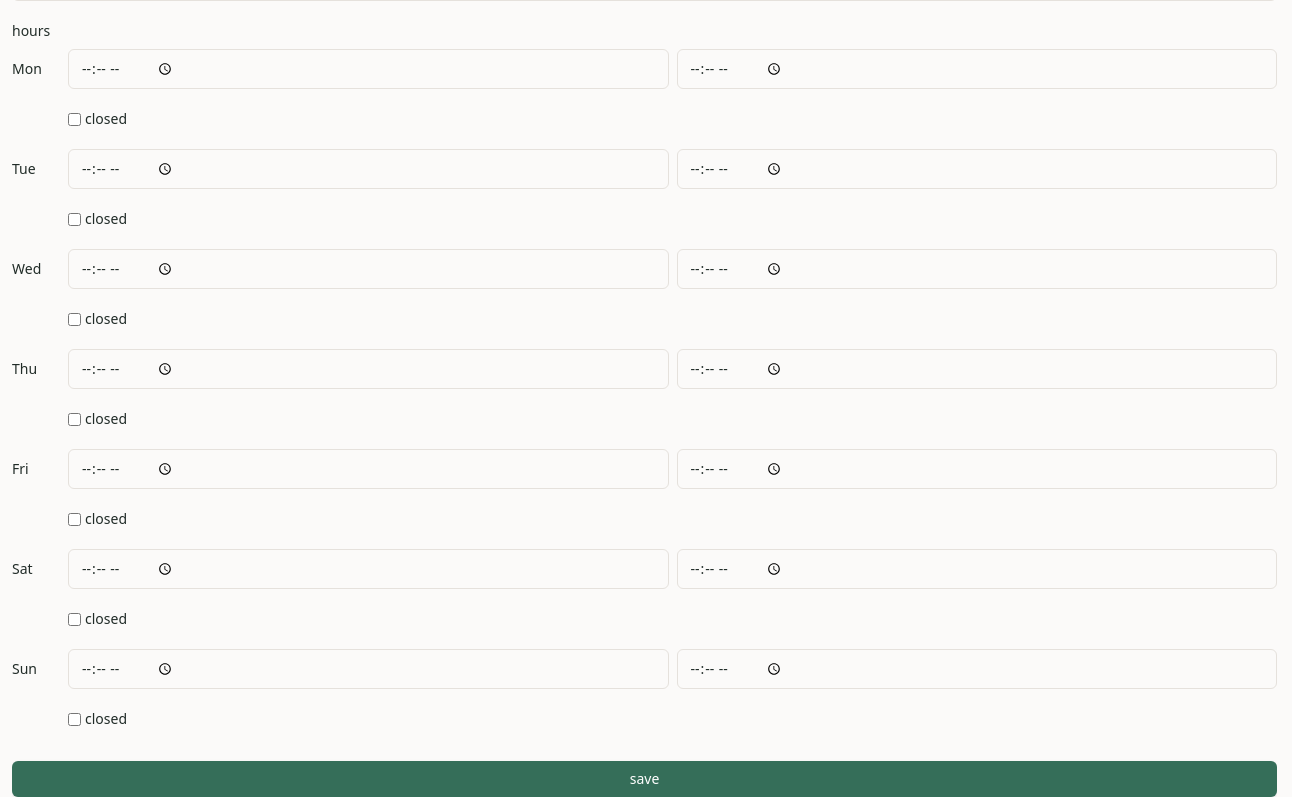
saves a venue with blank optional contact fields as null
The width and height of the screenshot is (1292, 797).
(page scrolled)
Click the button "save" at (644, 779), box [12, 761, 1277, 796]
(page scrolled)
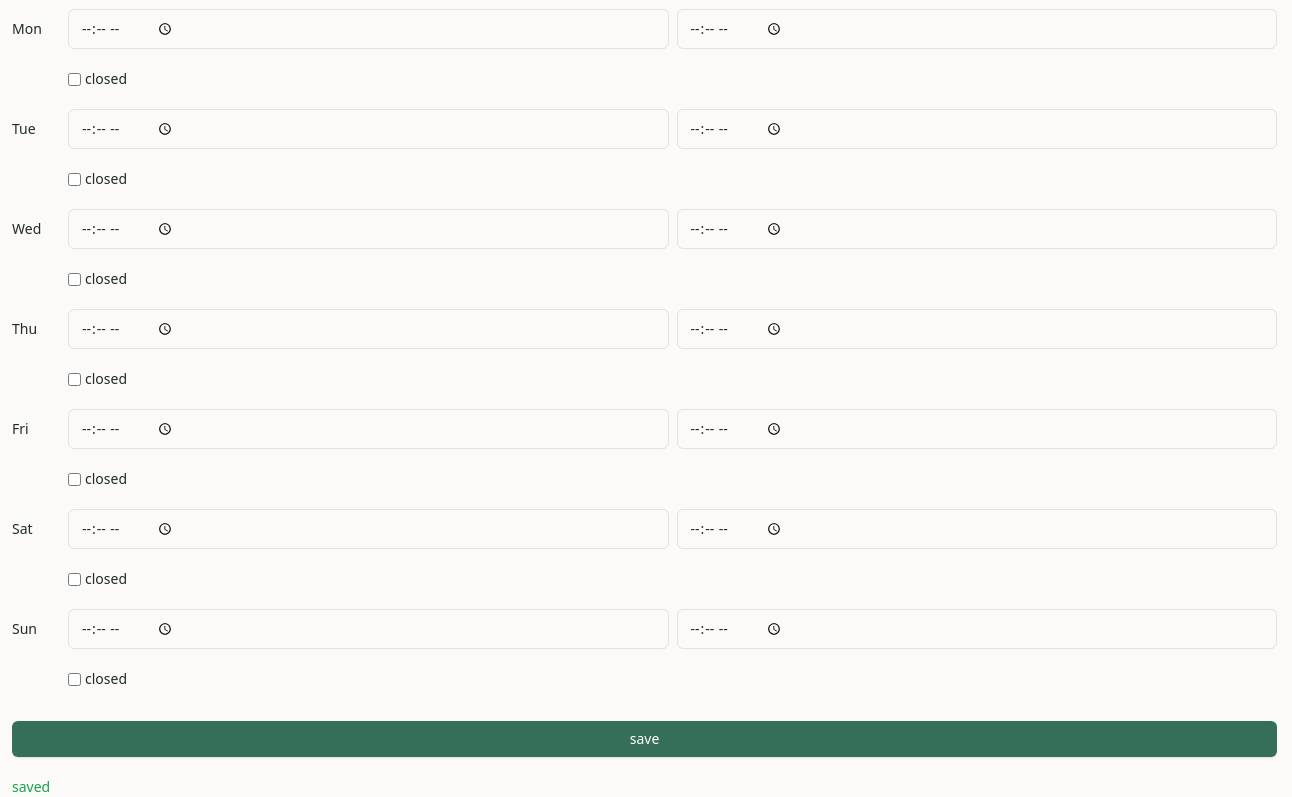
expect the text "saved" is shown: met, box [12, 777, 50, 796]
